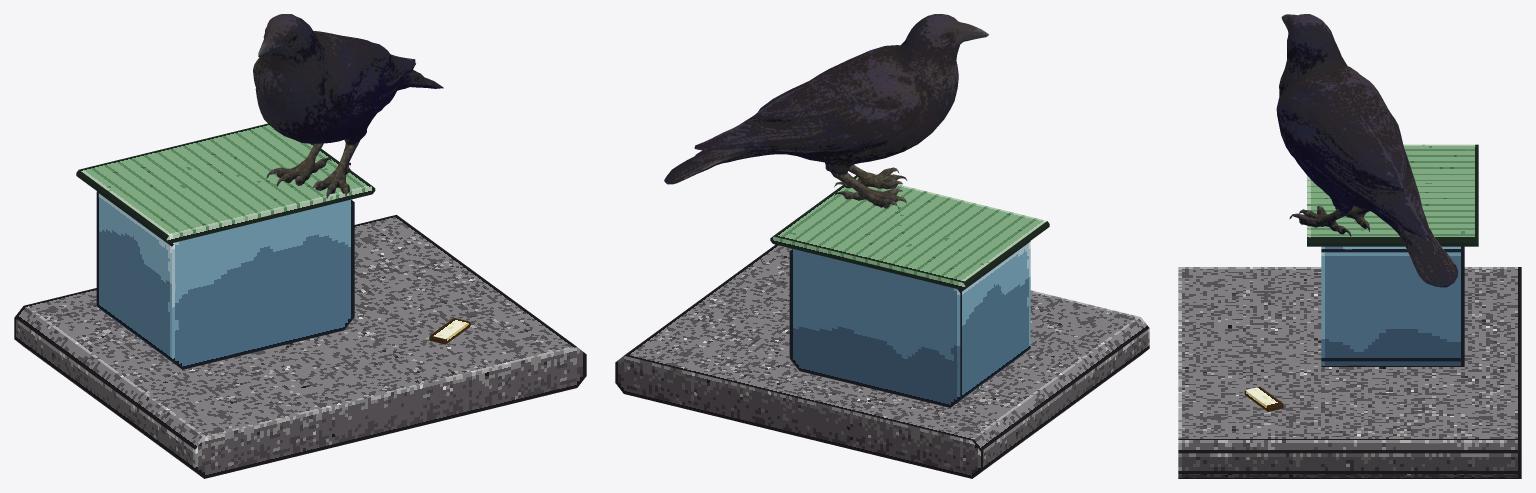
The model's file is karasu.glb.
The picture shows the model from 3 angles, left to right: view 1: azimuth 30°, elevation 25°; view 2: azimuth 150°, elevation 25°; view 3: azimuth 270°, elevation 25°; orthographic projection. The views are drawn at different scales.
Parts seen in each view (by area): view 1: base, bin, net, model_bird, key; view 2: base, bin, model_bird, net; view 3: base, model_bird, bin, net, key.
Part boxes in pixels (left/top/right/bottom): base: left=14, top=215, right=586, bottom=478; bin: left=96, top=191, right=354, bottom=369; net: left=76, top=123, right=375, bottom=243; model_bird: left=253, top=14, right=443, bottom=198; key: left=429, top=318, right=470, bottom=344; base: left=615, top=244, right=1149, bottom=478; bin: left=789, top=241, right=1030, bottom=407; model_bird: left=664, top=14, right=988, bottom=209; net: left=770, top=175, right=1049, bottom=290; base: left=1178, top=267, right=1521, bottom=478; model_bird: left=1276, top=14, right=1458, bottom=287; bin: left=1321, top=246, right=1464, bottom=366; net: left=1307, top=144, right=1478, bottom=246; key: left=1244, top=386, right=1283, bottom=411.
Bounding box in the file's own units: 30 × 27.6 × 24.
Materials: 2 (2 with a texture image).
